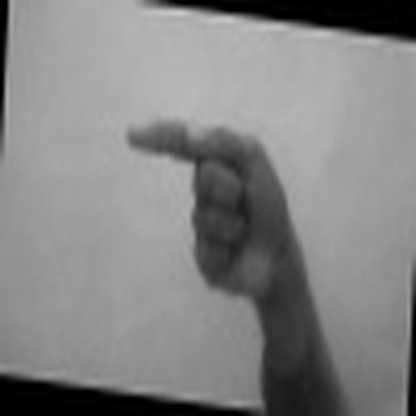g: (118, 109, 309, 296)
